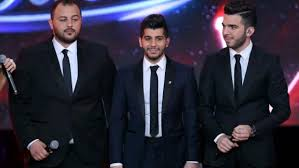middle_eastern_male: (220, 4, 255, 44), (51, 4, 81, 42)
